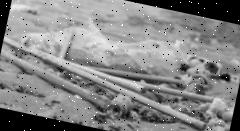general: (2, 35, 206, 130), (0, 45, 111, 108), (49, 54, 148, 94), (87, 65, 185, 85), (140, 83, 215, 102)
